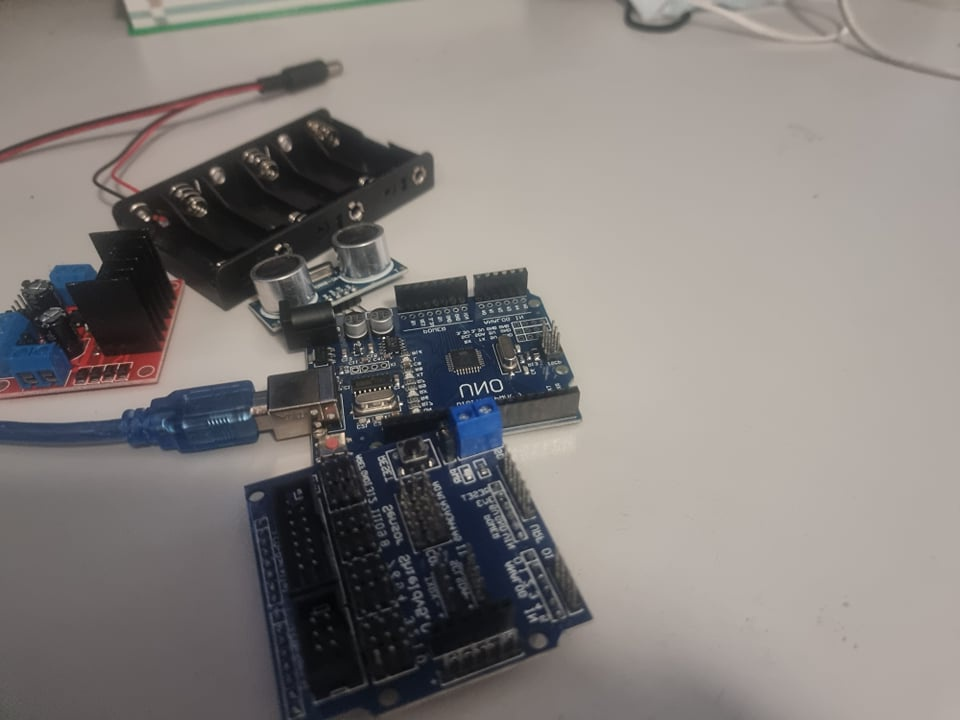5V EXPANSION: (242, 400, 590, 720)
BATTERY BOX: (132, 100, 435, 310)
MOTOR: (0, 224, 175, 409)
SENSOR: (247, 219, 393, 338)
UNO R3: (278, 276, 574, 458)
